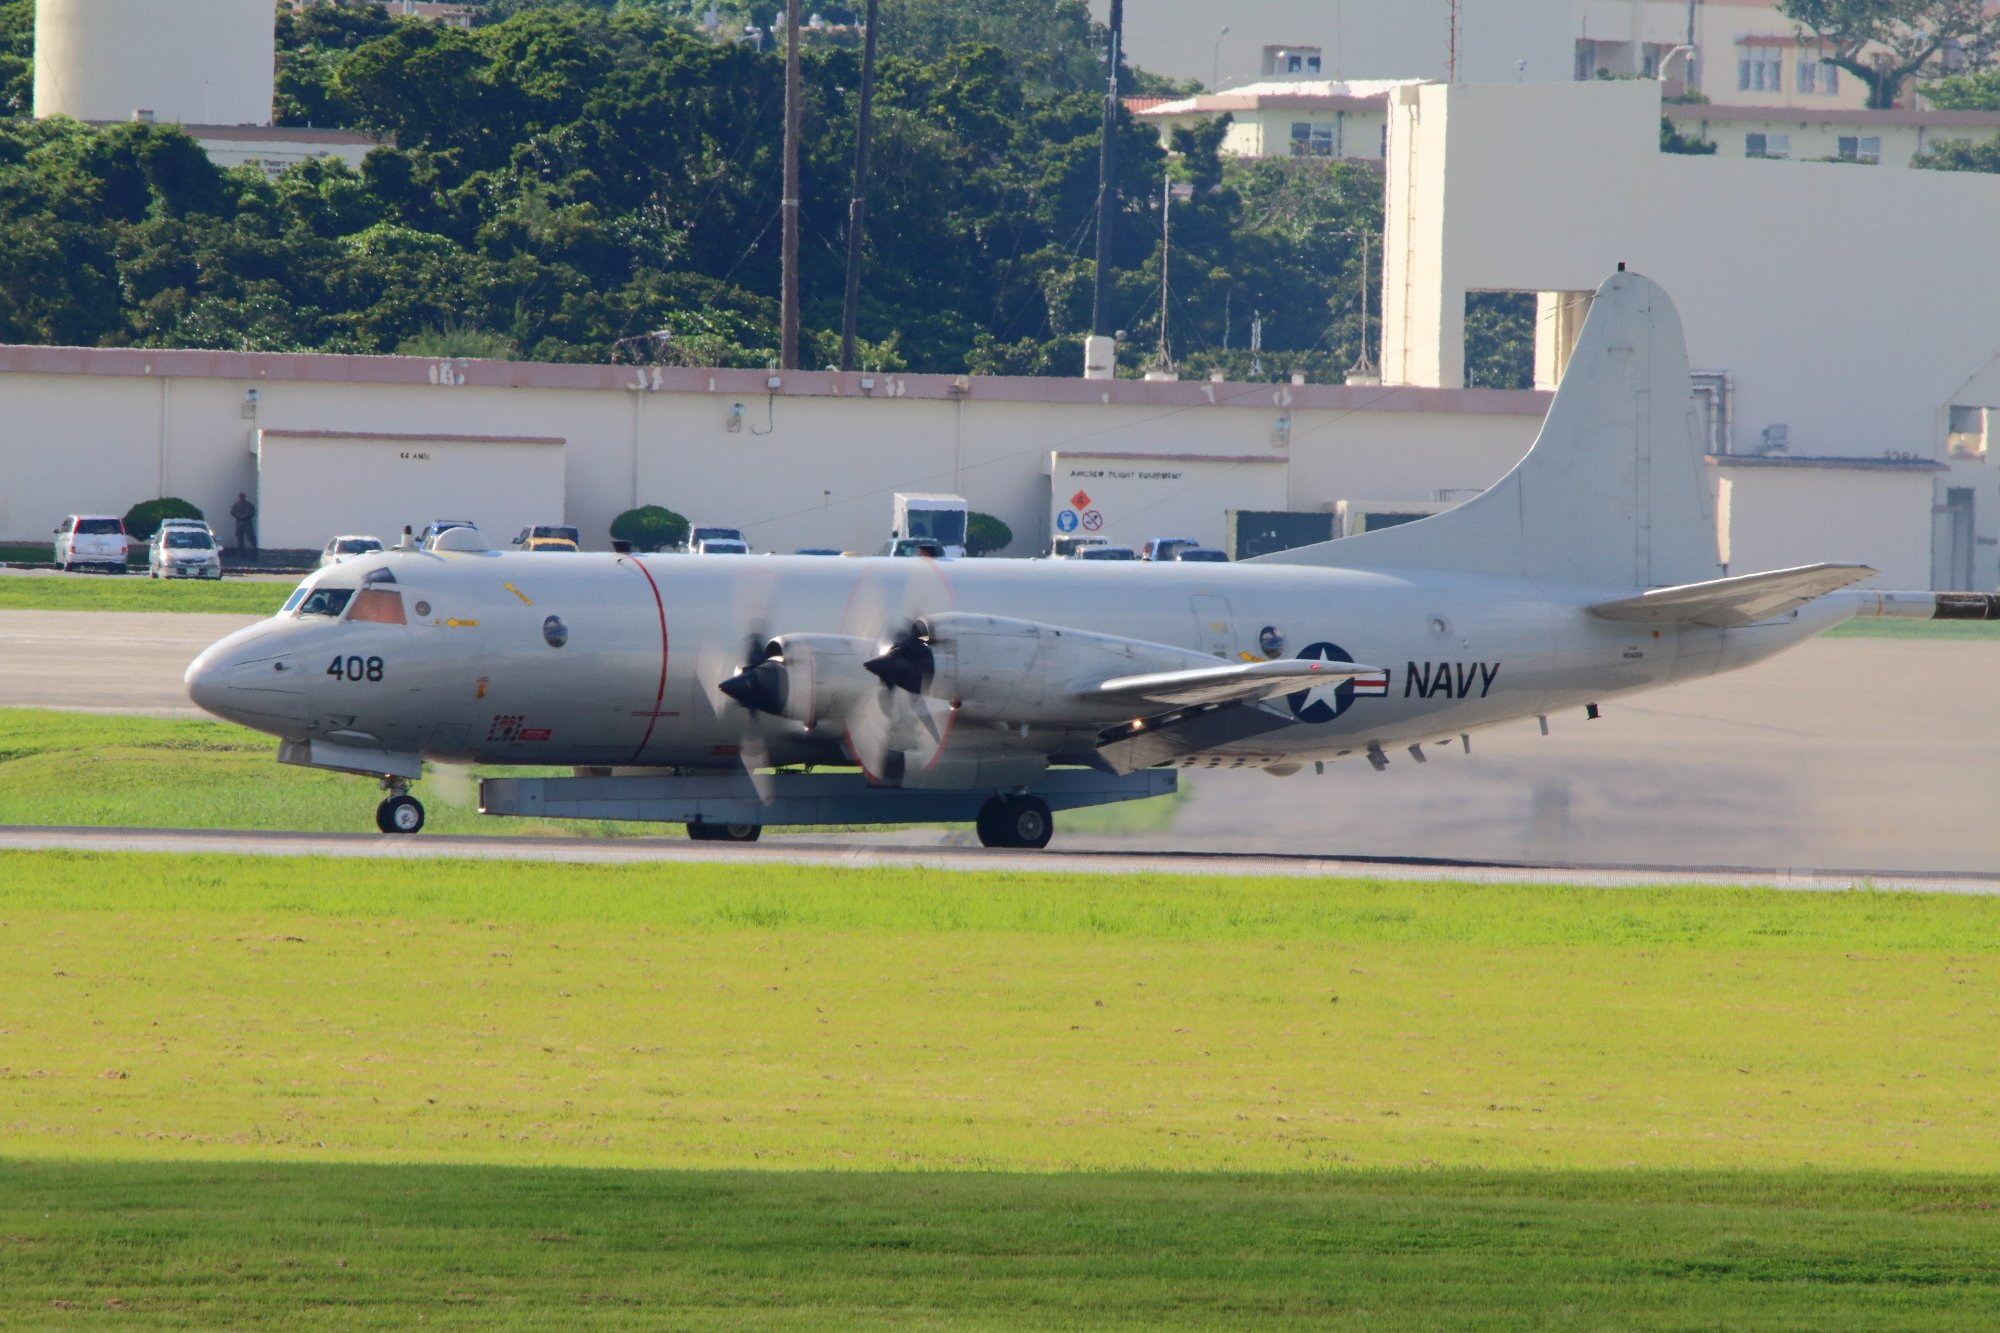airplane: (183, 260, 2000, 849)
